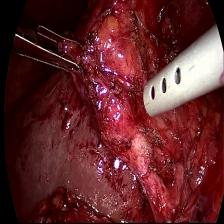Grasper: (12, 17, 85, 85)
Irrigator: (142, 46, 198, 124)
